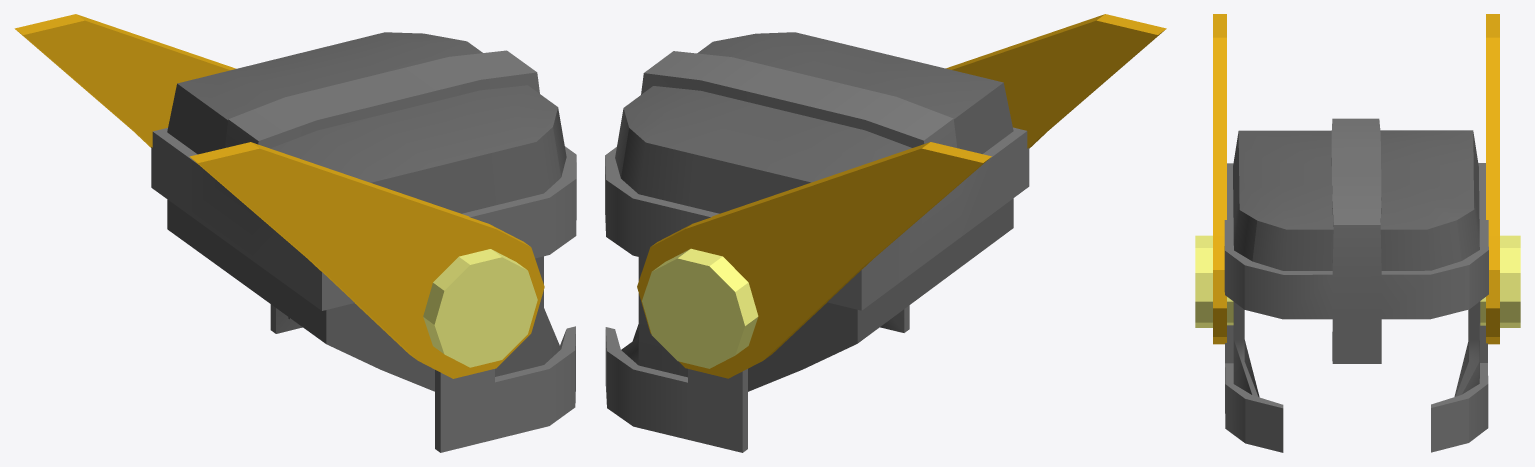
Rendered from Wingedhelm.fbx.
3 renders of one model, left to right at view 1: azimuth 30°, elevation 25°; view 2: azimuth 150°, elevation 25°; view 3: azimuth 270°, elevation 25°, orthographic. The views are drawn at different scales.
Parts seen in each view (by area): view 1: pCylinder19; view 2: pCylinder19; view 3: pCylinder19.
Boxes of the visible parts, x1,y1,x2,y2 form: pCylinder19: [14, 14, 576, 452]; pCylinder19: [605, 14, 1166, 452]; pCylinder19: [1195, 14, 1520, 452].
Bounding box in the file's own units: 140 × 112 × 119.
